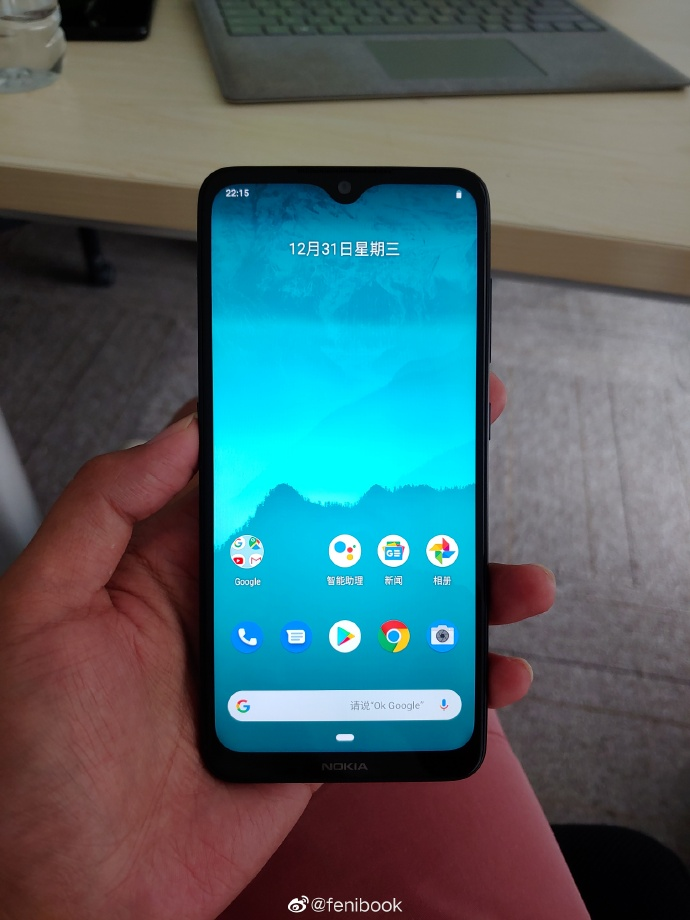Cell Phone: (190, 165, 493, 783)
